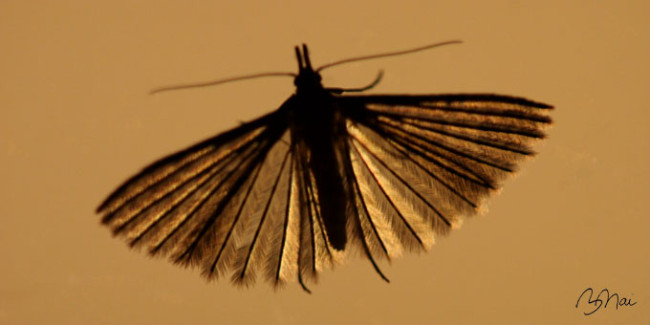Alucitidae: (88, 29, 562, 291)
moth: (96, 31, 570, 293)
